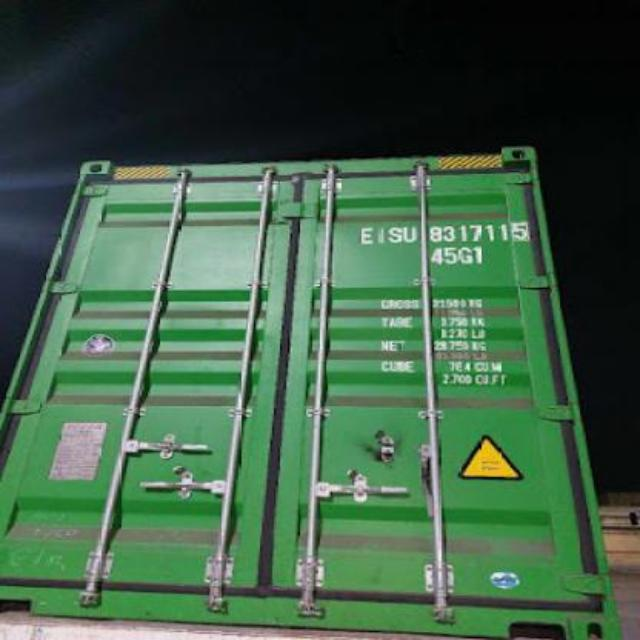1: (494, 220, 514, 240), (454, 220, 468, 248), (486, 222, 496, 244)
3: (441, 220, 454, 243)
5: (512, 215, 530, 241)
7: (470, 220, 486, 244)
8: (426, 222, 442, 246)
E: (358, 222, 376, 248)
I: (378, 225, 388, 251)
S: (386, 224, 404, 246)
U: (398, 224, 419, 246)
